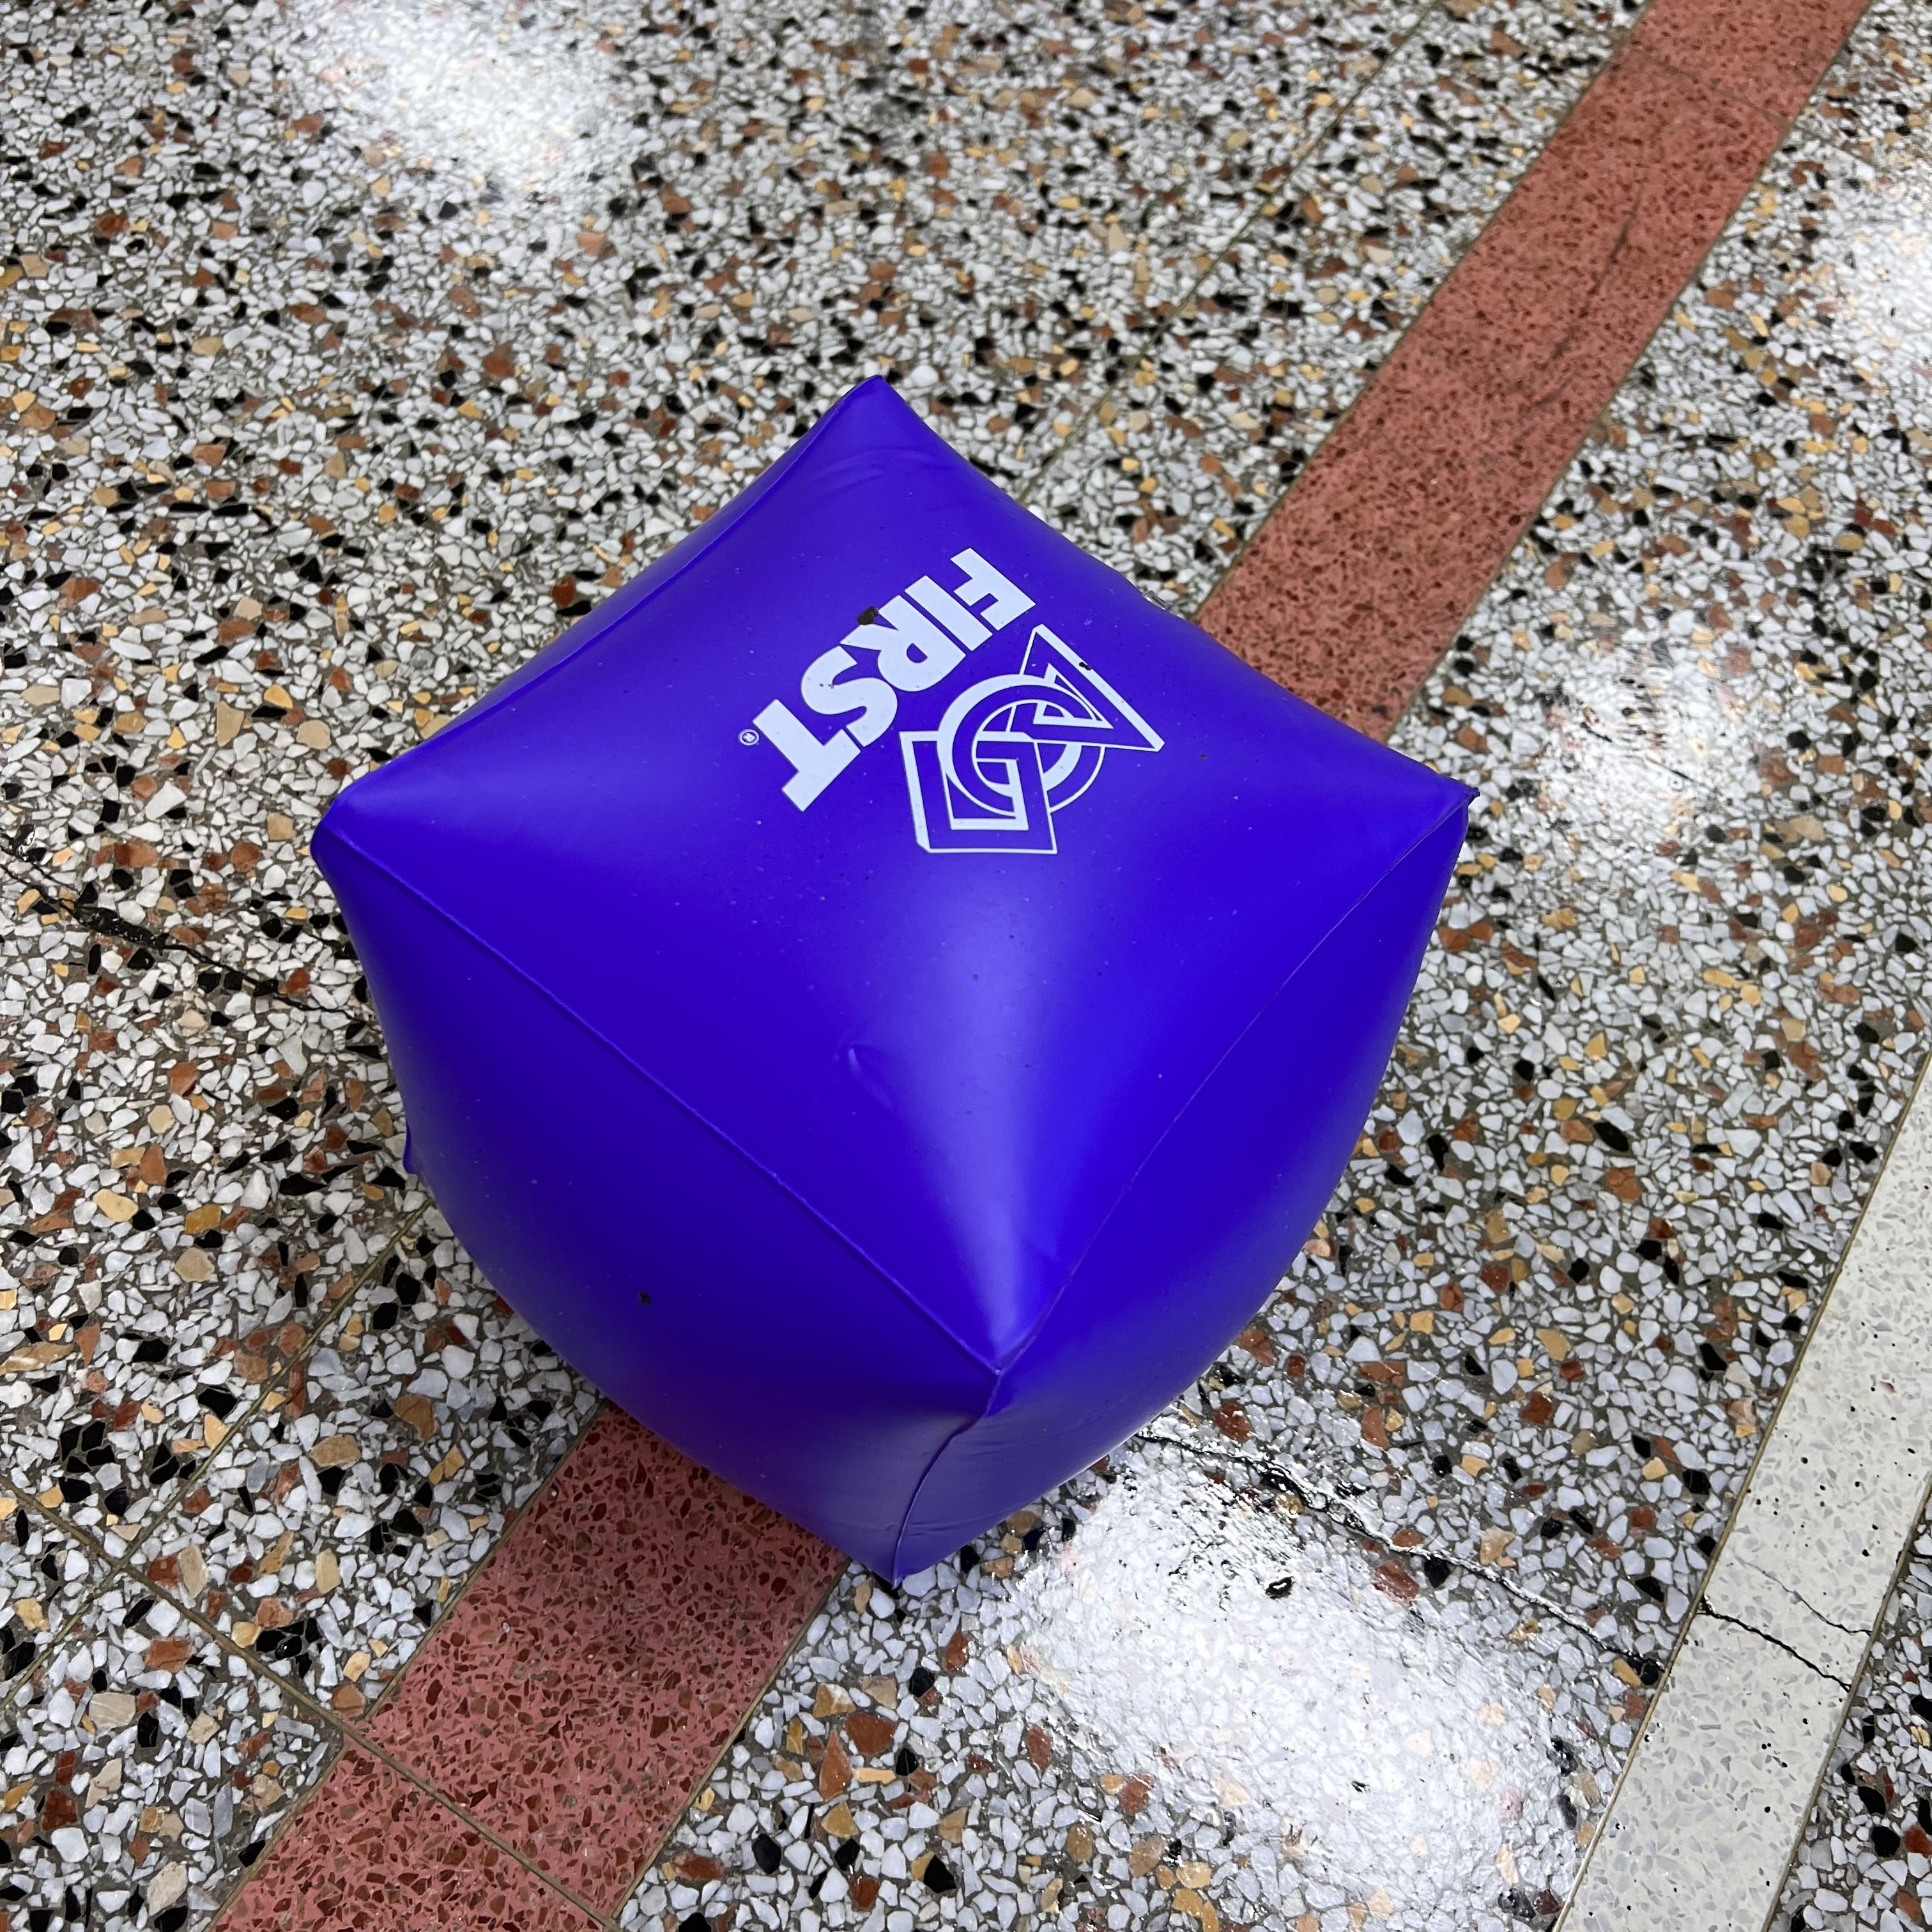cube: (308, 373, 1481, 1589)
